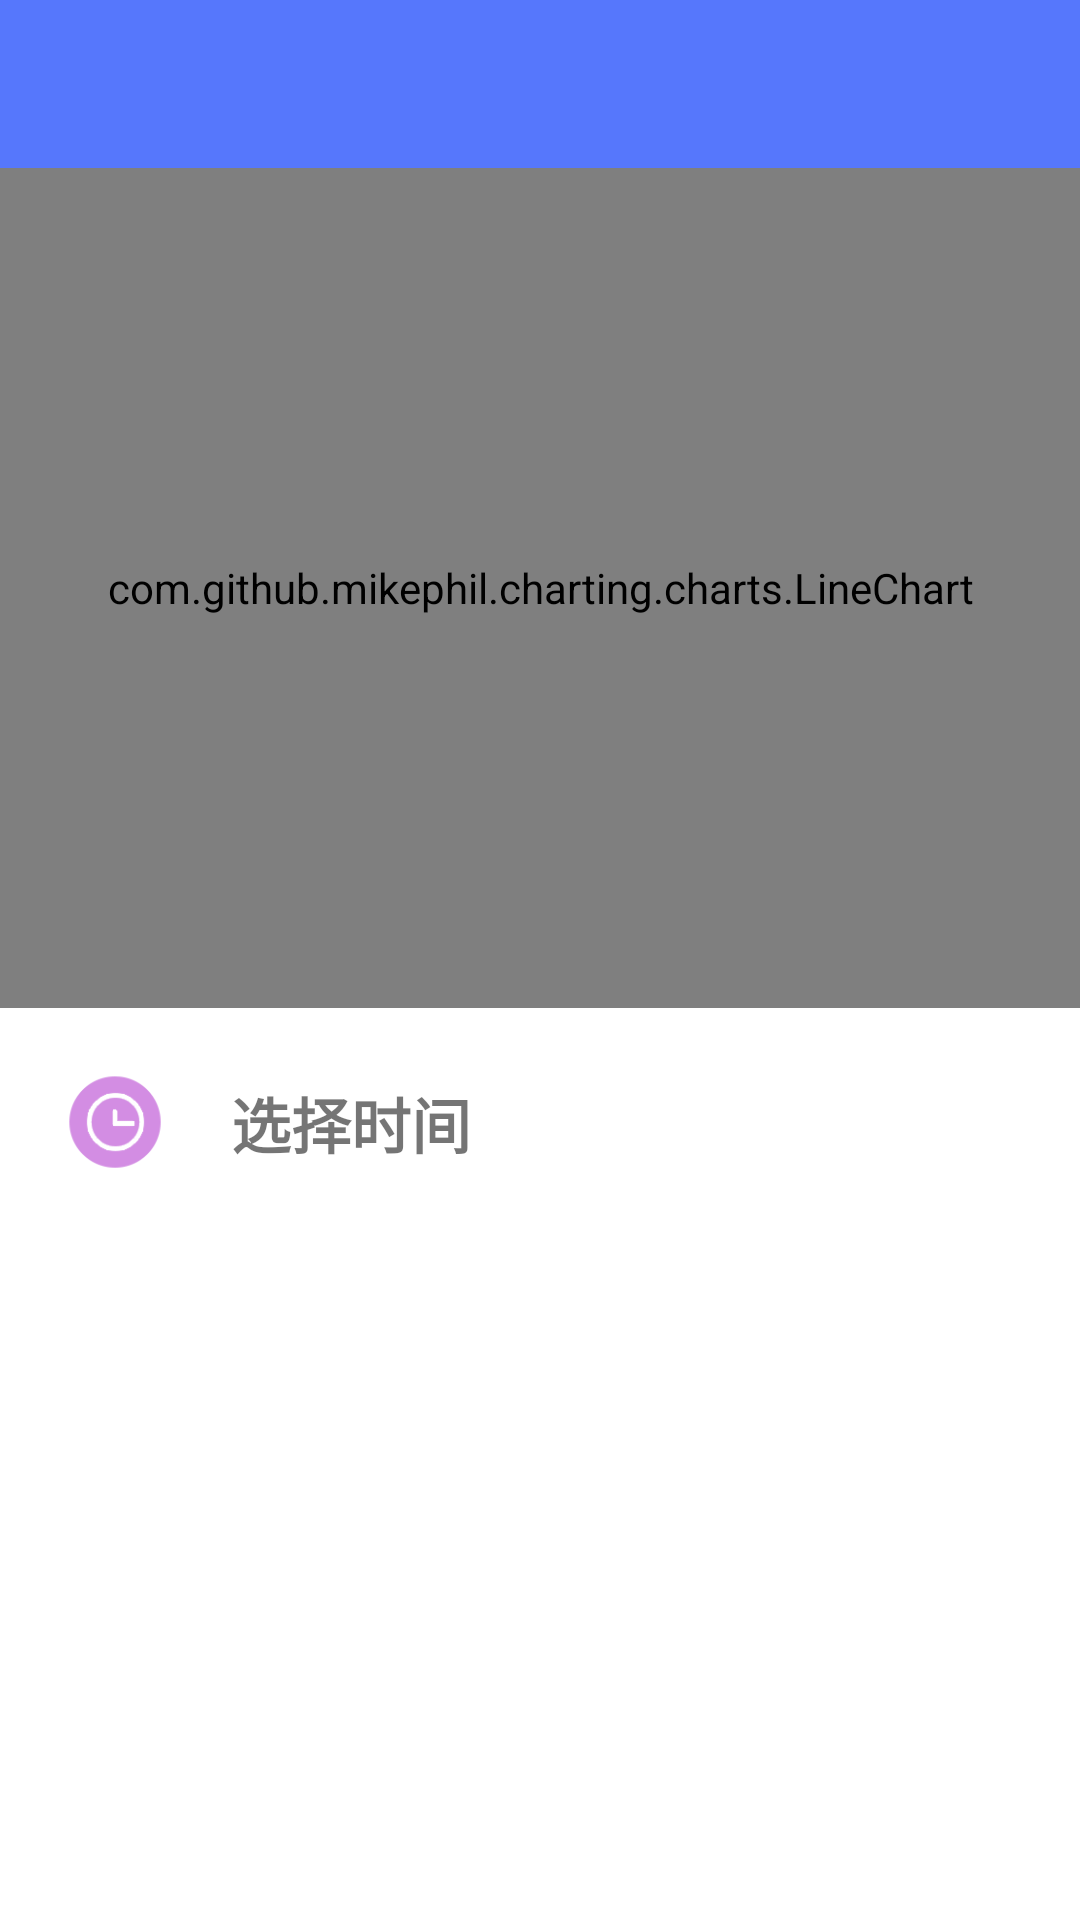

Icon click points for this 1080px×1920px phone screenshot, format (x=x, y=y):
picktime: (x=115, y=1122)
